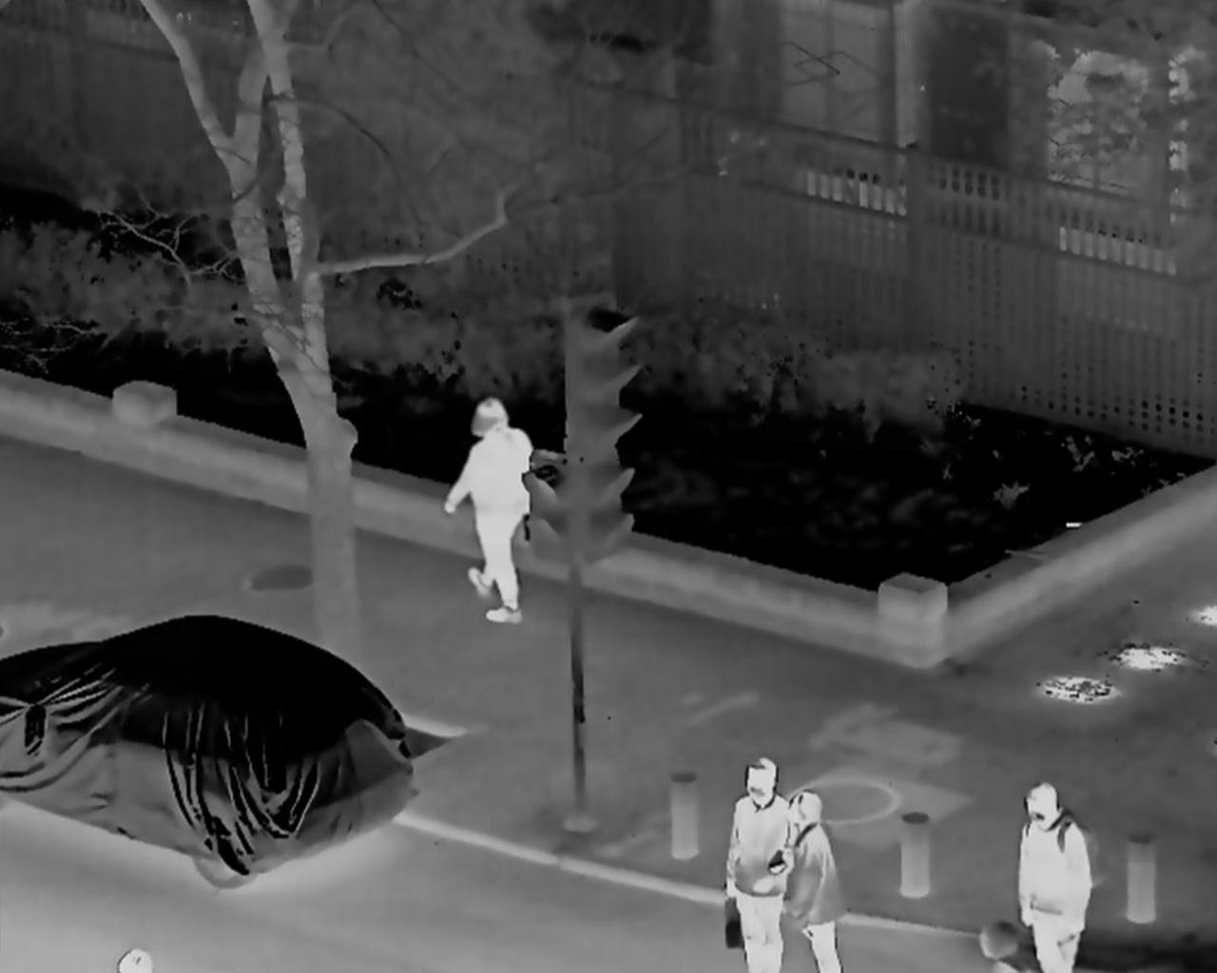person: (440, 397, 533, 623), (1011, 780, 1094, 973), (724, 753, 792, 973), (781, 794, 847, 973)
